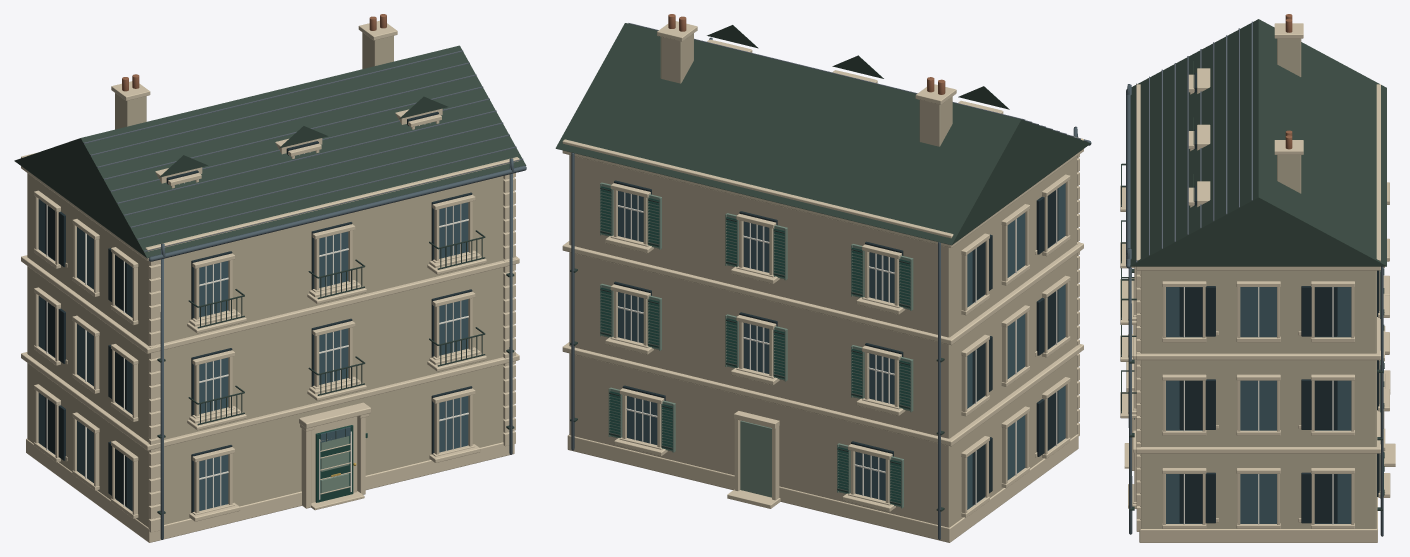
File: corner_apartments.glb
3 renders of one model, left to right at view 1: azimuth 30°, elevation 25°; view 2: azimuth 150°, elevation 25°; view 3: azimuth 270°, elevation 25°, orthographic. The views are drawn at different scales.
Visible parts, largest first — view 1: Building_masonry, Pitched_slate_roof, Stone_plinth, Continuous_cornice.001, Continuous_cornice, Zinc_gutter, Continuous_cornice.003, Window_glass.001, Window_glass, Window_glass.002, Window_glass.012, Window_glass.004 (+29 smaller); view 2: Building_masonry, Pitched_slate_roof, Stone_plinth, Continuous_cornice, Continuous_cornice.001, Garden_entry_door, Continuous_cornice.003, Continuous_cornice.002, Chimney_stack.001, Chimney_stack, Window_glass.014, Window_glass.015 (+17 smaller); view 3: Pitched_slate_roof, Building_masonry, Stone_plinth, Continuous_cornice.001, Continuous_cornice, Side_glass.013, Side_glass.016, Side_glass.010, Continuous_cornice.003, Window_recess.022, Window_recess.026, Window_recess.024 (+24 smaller).
Part boxes in pixels (x1,y1,x2,y2): Building_masonry: [27, 173, 504, 527]; Pitched_slate_roof: [14, 45, 526, 258]; Stone_plinth: [26, 438, 514, 542]; Continuous_cornice.001: [21, 255, 519, 353]; Continuous_cornice: [21, 352, 519, 450]; Zinc_gutter: [148, 166, 526, 261]; Continuous_cornice.003: [21, 153, 519, 251]; Window_glass.001: [439, 396, 468, 452]; Window_glass: [199, 454, 228, 510]; Window_glass.002: [199, 357, 228, 414]; Window_glass.012: [439, 202, 468, 258]; Window_glass.004: [319, 328, 348, 384]; Building_masonry: [569, 155, 1076, 527]; Pitched_slate_roof: [555, 23, 1090, 245]; Stone_plinth: [567, 434, 1078, 542]; Continuous_cornice: [562, 342, 1083, 446]; Continuous_cornice.001: [562, 241, 1083, 345]; Garden_entry_door: [740, 420, 771, 497]; Continuous_cornice.003: [562, 136, 1083, 238]; Continuous_cornice.002: [562, 149, 1083, 247]; Chimney_stack.001: [660, 33, 693, 83]; Chimney_stack: [919, 96, 952, 146]; Window_glass.014: [627, 396, 657, 444]; Window_glass.015: [855, 451, 885, 500]; Pitched_slate_roof: [1130, 19, 1386, 266]; Building_masonry: [1140, 270, 1376, 528]; Stone_plinth: [1139, 497, 1377, 542]; Continuous_cornice.001: [1136, 317, 1380, 360]; Continuous_cornice: [1136, 410, 1380, 453]; Side_glass.013: [1240, 380, 1276, 430]; Side_glass.016: [1240, 287, 1276, 337]; Side_glass.010: [1240, 474, 1276, 523]; Continuous_cornice.003: [1136, 84, 1380, 261]; Window_recess.022: [1301, 472, 1337, 523]; Window_recess.026: [1301, 286, 1337, 336]; Window_recess.024: [1301, 379, 1337, 429].
Size of the model in its own units: 12.5 by 12.45 by 8.16.
